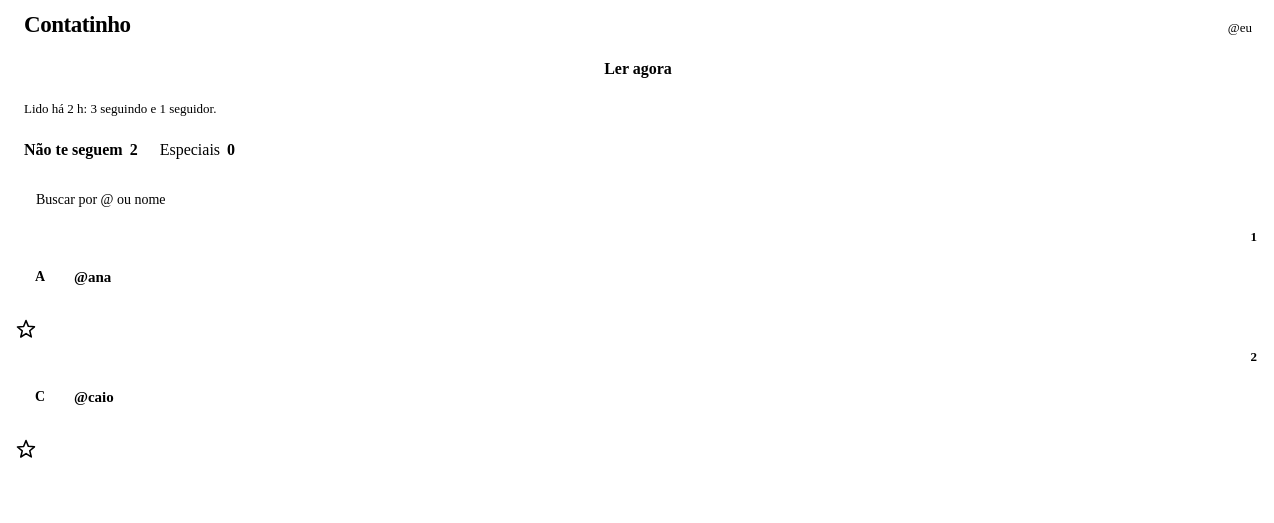
App › aba recarregada no meio da leitura vira "leitura interrompida"
Click the button "Ler agora".
click(638, 69)  # box top-left (24, 49), bottom-right (1252, 89)
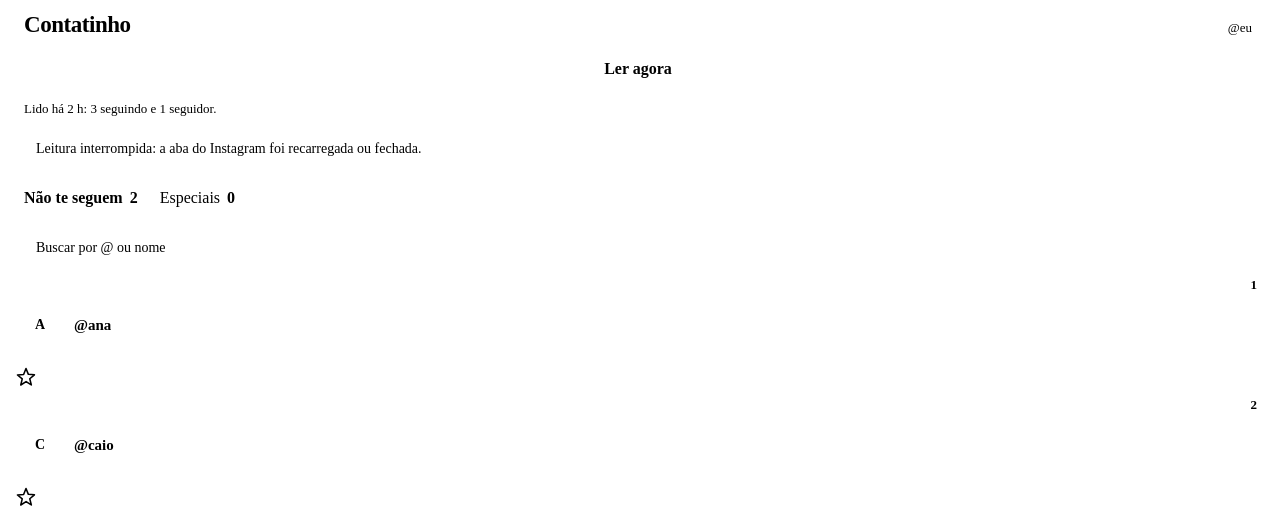
Expected: the message shows "Leitura interrompida", top-left (36, 141), bottom-right (422, 156)
